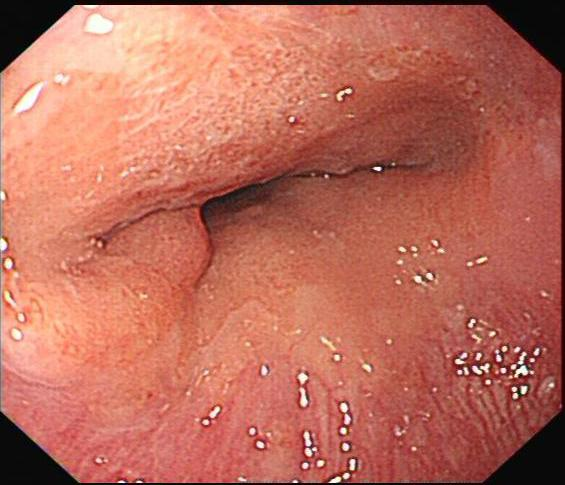Polyp: (100, 205, 213, 297)
